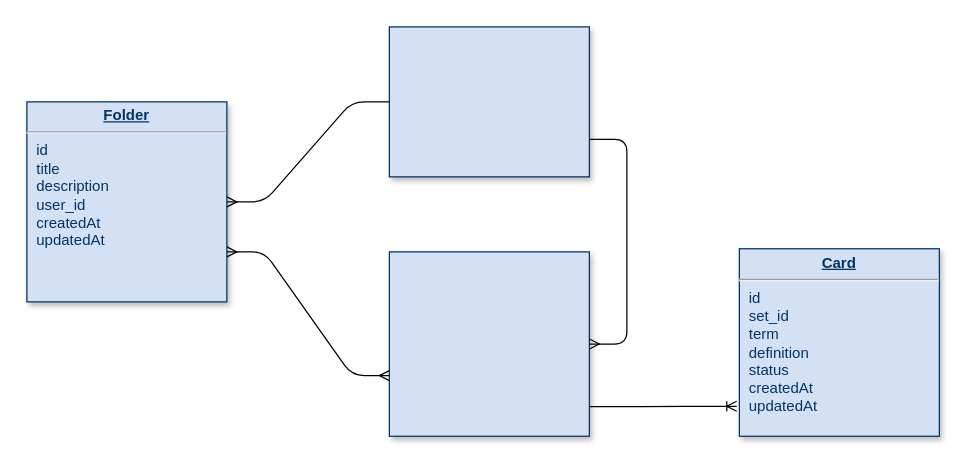
Some shapes in this 969 by 468 pixel diagram are drawn without their labels. Each missing label, with the centre of its shape:
Set user_id id title description privacy process createdAt updatedAt: pixel 490 345
User id username email password createdAt updatedAt: pixel 490 103
